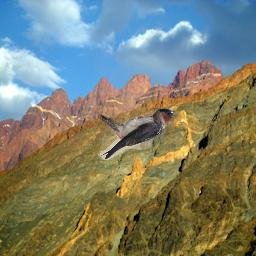Swallow: (98, 108, 178, 160)
